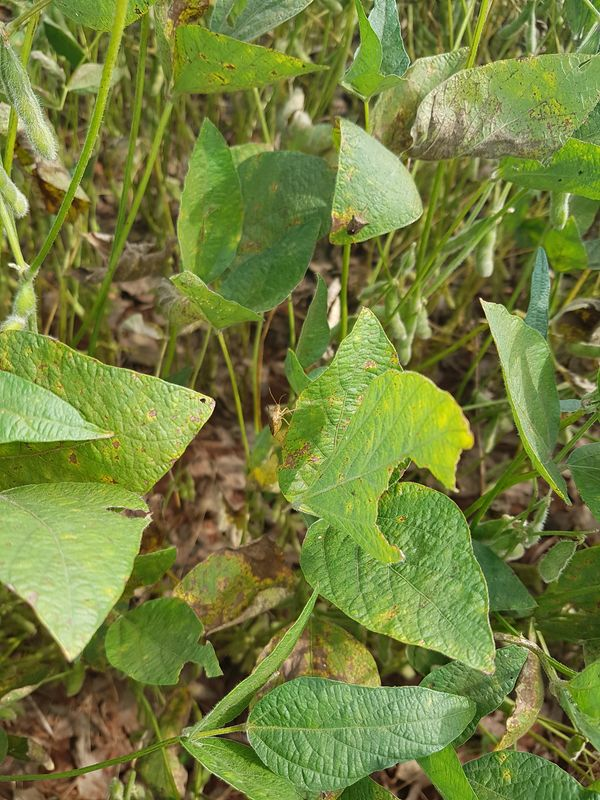Euschistus_heros_adulto: (255, 387, 299, 438), (339, 208, 374, 246)
